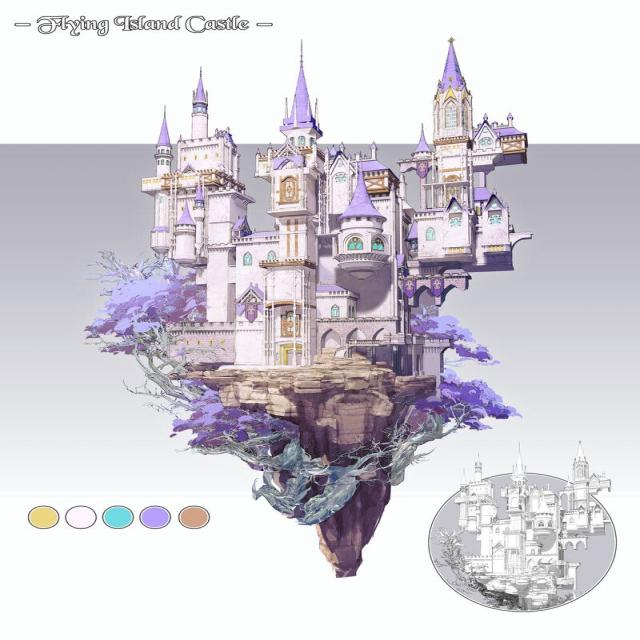castle: (69, 52, 568, 387)
